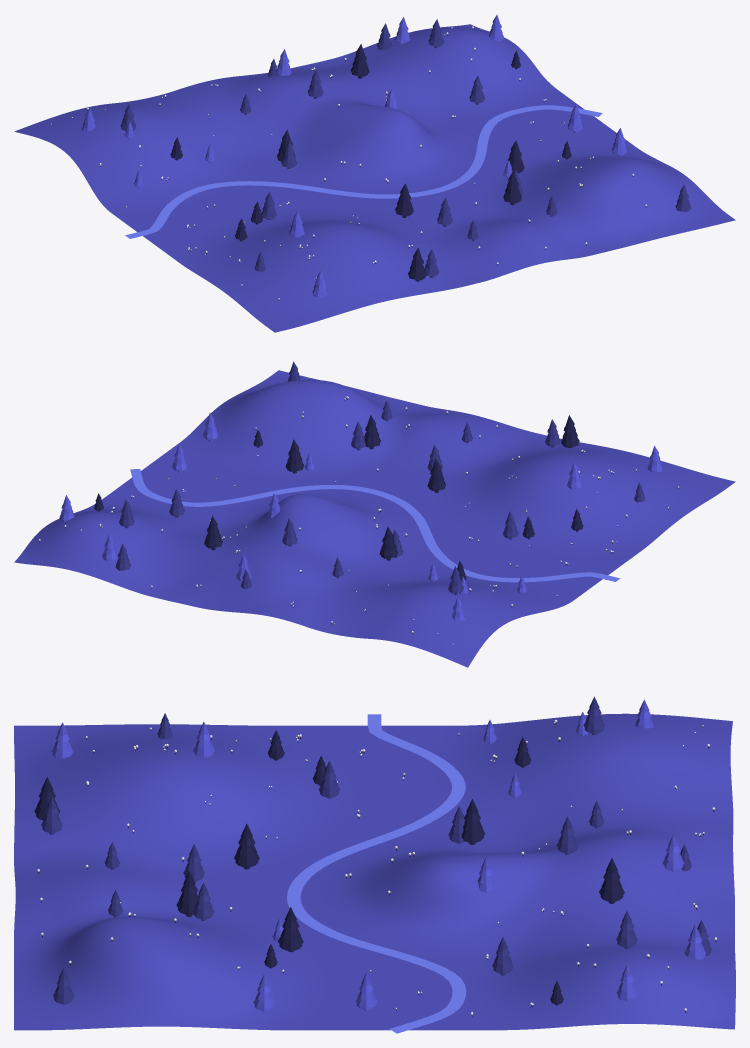
The model's file is island.glb.
The picture shows the model from 3 angles, top to bottom: view 1: azimuth 30°, elevation 25°; view 2: azimuth 150°, elevation 25°; view 3: azimuth 270°, elevation 25°; orthographic projection. The views are drawn at different scales.
Visible parts, largest first — view 1: Environment, Road; view 2: Environment, Road; view 3: Environment, Road, Tree.015, Tree.017, Tree.018, Tree.007, Tree.016.
Part boxes in pixels (x1,y1,x2,y2): Environment: [14, 24, 735, 332]; Road: [125, 105, 602, 238]; Environment: [14, 370, 735, 667]; Road: [130, 469, 620, 582]; Environment: [14, 713, 735, 1030]; Road: [287, 714, 466, 1033]; Tree.015: [234, 823, 259, 869]; Tree.017: [599, 858, 624, 903]; Tree.018: [278, 907, 303, 952]; Tree.007: [461, 799, 485, 844]; Tree.016: [176, 871, 197, 916].
Size of the model in its own units: 83.27 by 9.11 by 79.52.
